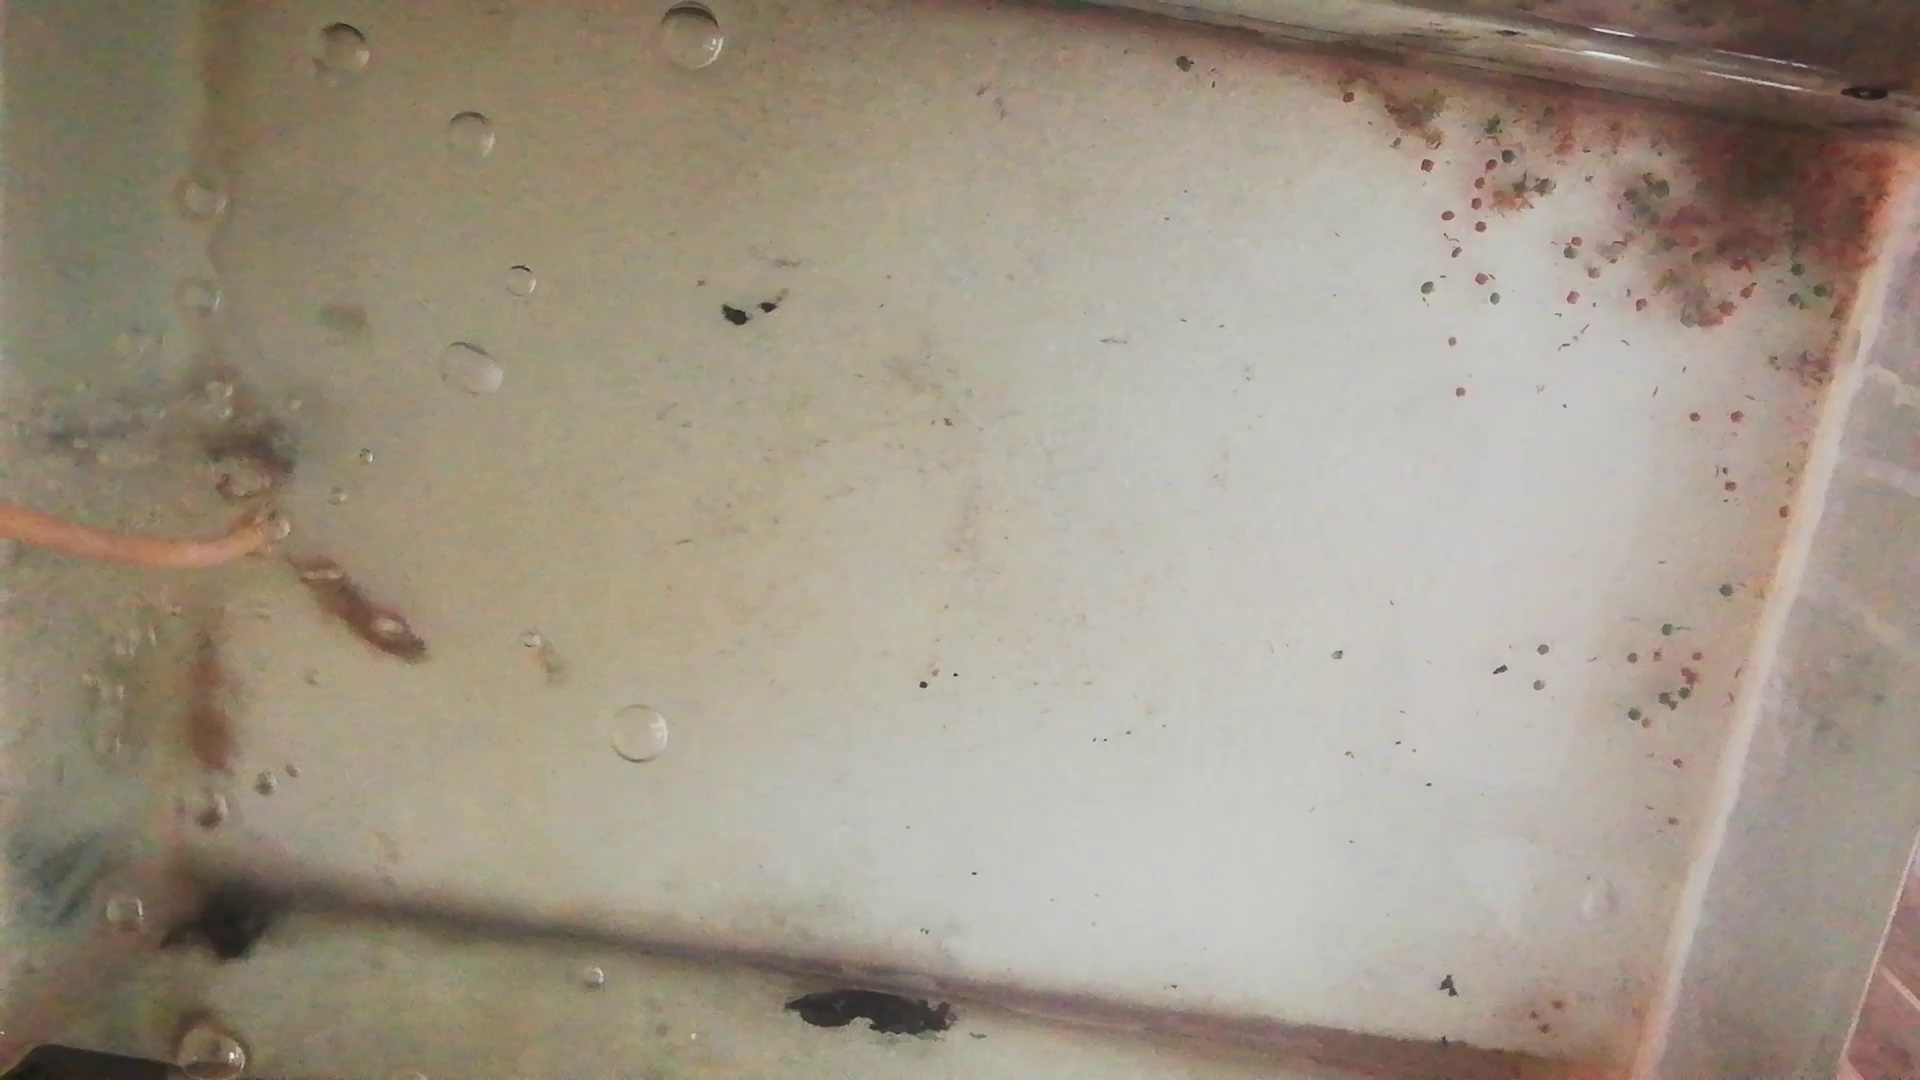fish: (276, 551, 436, 666), (183, 599, 245, 783)
